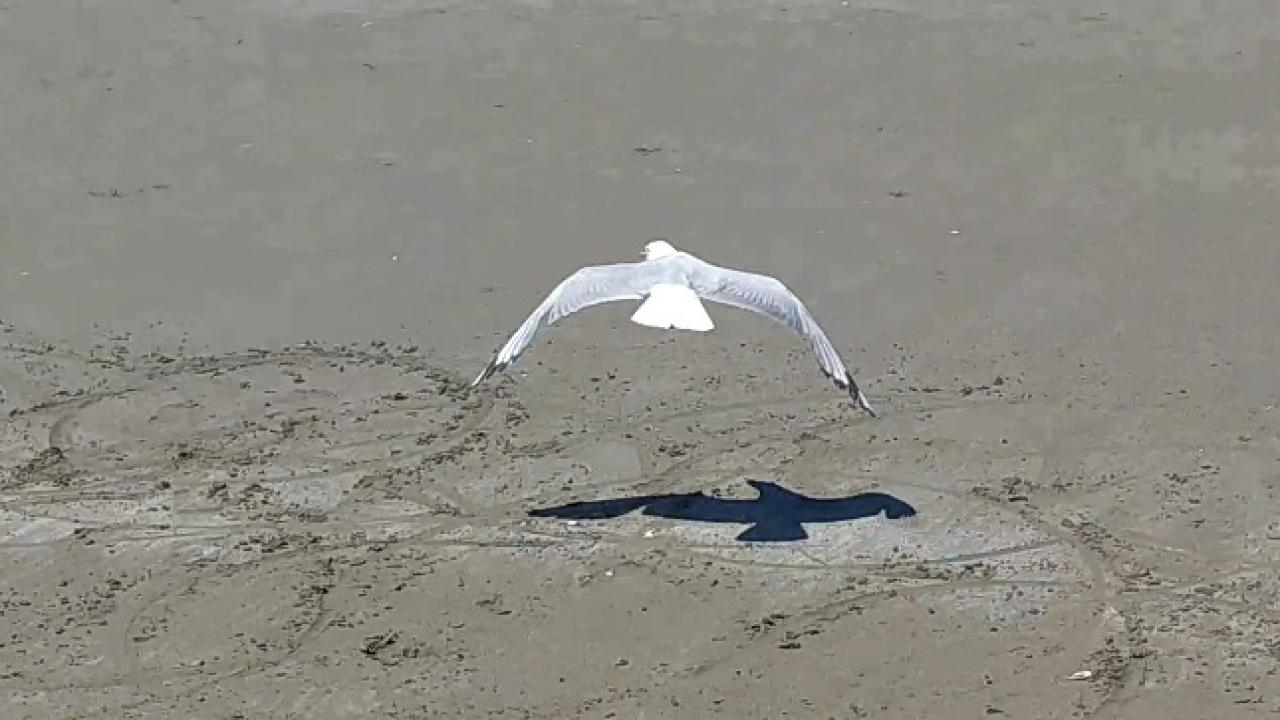Bird: (458, 229, 888, 424)
